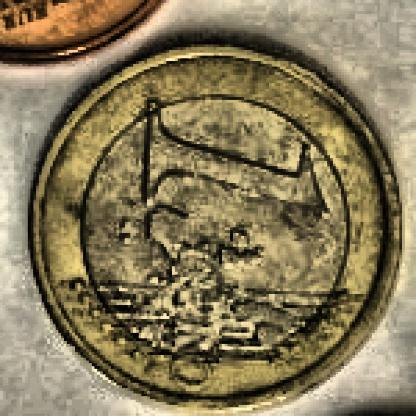coin: (24, 43, 405, 410)
